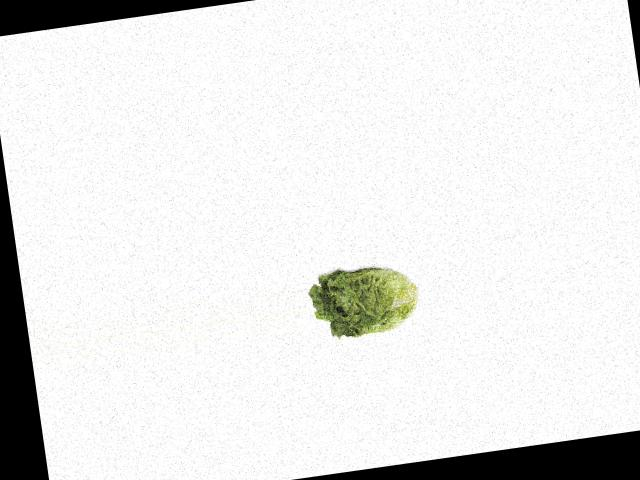lettuce: (308, 255, 424, 348)
